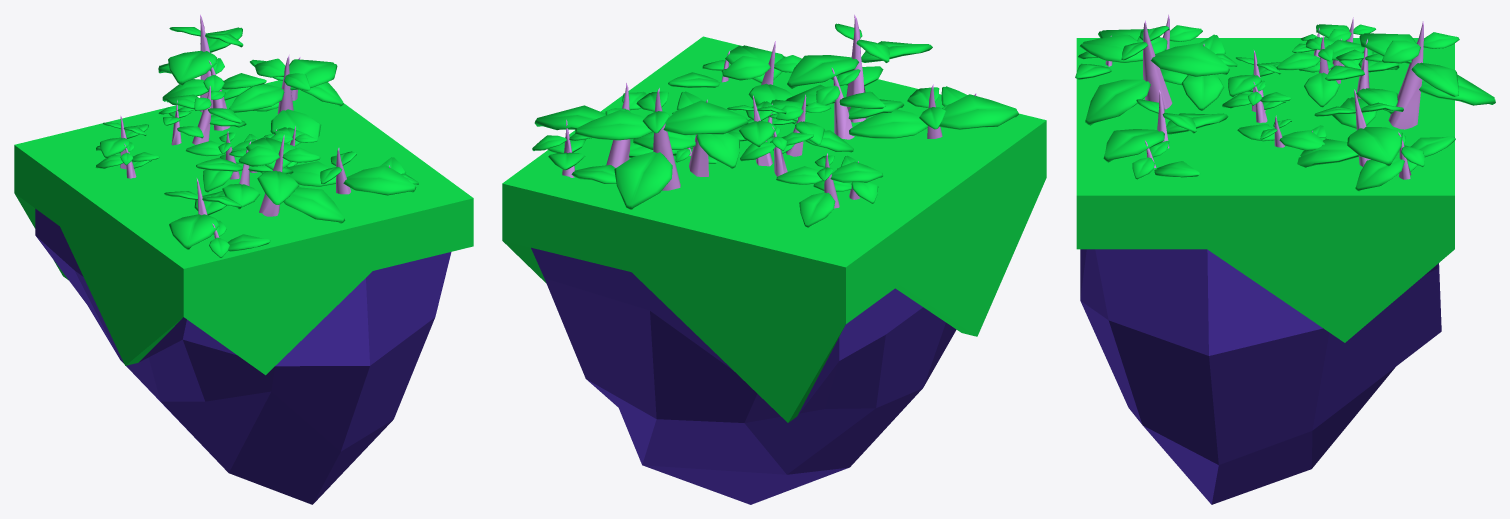
The model's file is ground2.fbx.
The picture shows the model from 3 angles, left to right: view 1: azimuth 30°, elevation 25°; view 2: azimuth 150°, elevation 25°; view 3: azimuth 270°, elevation 25°; orthographic projection. The views are drawn at different scales.
Parts seen in each view (by area): view 1: BezierCurve.001; view 2: BezierCurve.001; view 3: BezierCurve.001.
Boxes of the visible parts, x1,y1,x2,y2 form: BezierCurve.001: (14,14,473,504); BezierCurve.001: (502,14,1046,504); BezierCurve.001: (1075,14,1495,504).
Bounding box in the file's own units: 482 × 670 × 538.
